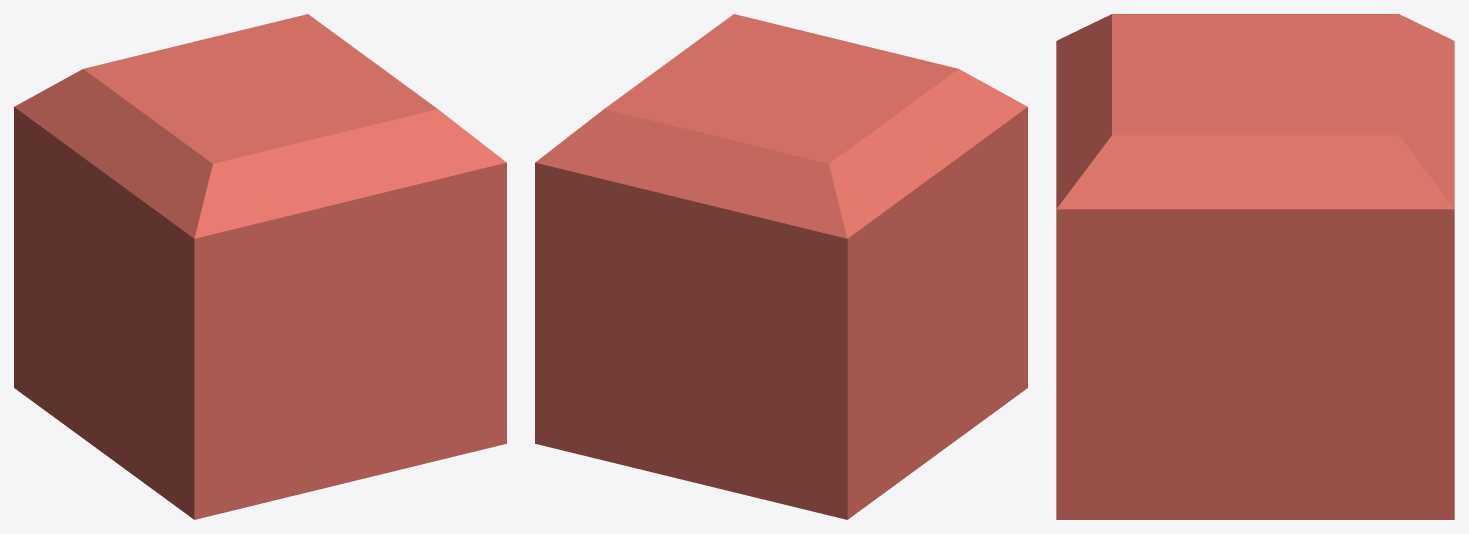
File: bevel.glb
3 views of the same model, side by side, from view 1: azimuth 30°, elevation 25°; view 2: azimuth 150°, elevation 25°; view 3: azimuth 270°, elevation 25° (orthographic). The views are drawn at different scales.
Parts seen in each view (by area): view 1: Cube; view 2: Cube; view 3: Cube.
Part boxes in pixels (x1,y1,x2,y2): Cube: (14, 14, 506, 519); Cube: (535, 14, 1027, 519); Cube: (1056, 14, 1454, 519).
Size of the model in its own units: 1 by 1 by 1.
